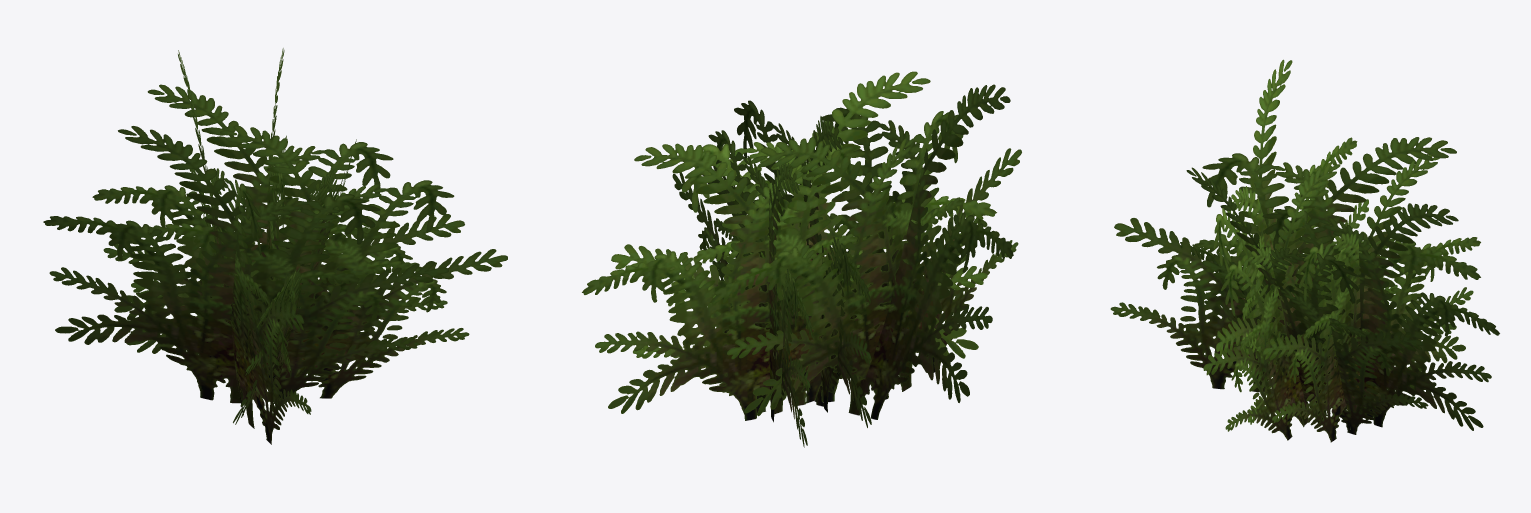
Rendered from ts_yxobj024.FBX.
3 views of the same model, side by side, from view 1: azimuth 30°, elevation 25°; view 2: azimuth 150°, elevation 25°; view 3: azimuth 270°, elevation 25° (orthographic). The views are drawn at different scales.
Visible parts, largest first — view 1: ts_yxobj024; view 2: ts_yxobj024; view 3: ts_yxobj024.
Boxes of the visible parts, <box> form: ts_yxobj024: <box>43,48,507,444</box>; ts_yxobj024: <box>582,71,1021,447</box>; ts_yxobj024: <box>1110,59,1499,442</box>.
Bounding box in the file's own units: 2.16 × 1.82 × 2.18.
